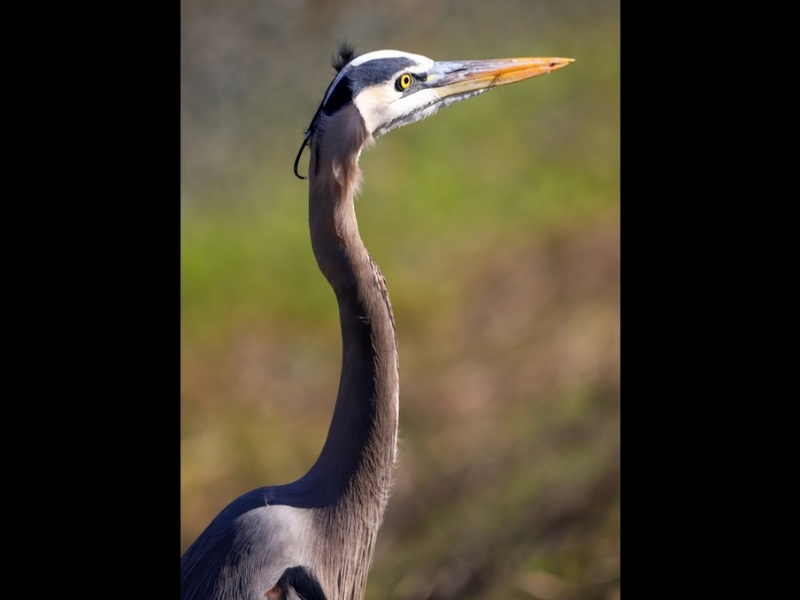heron: (205, 44, 578, 584)
